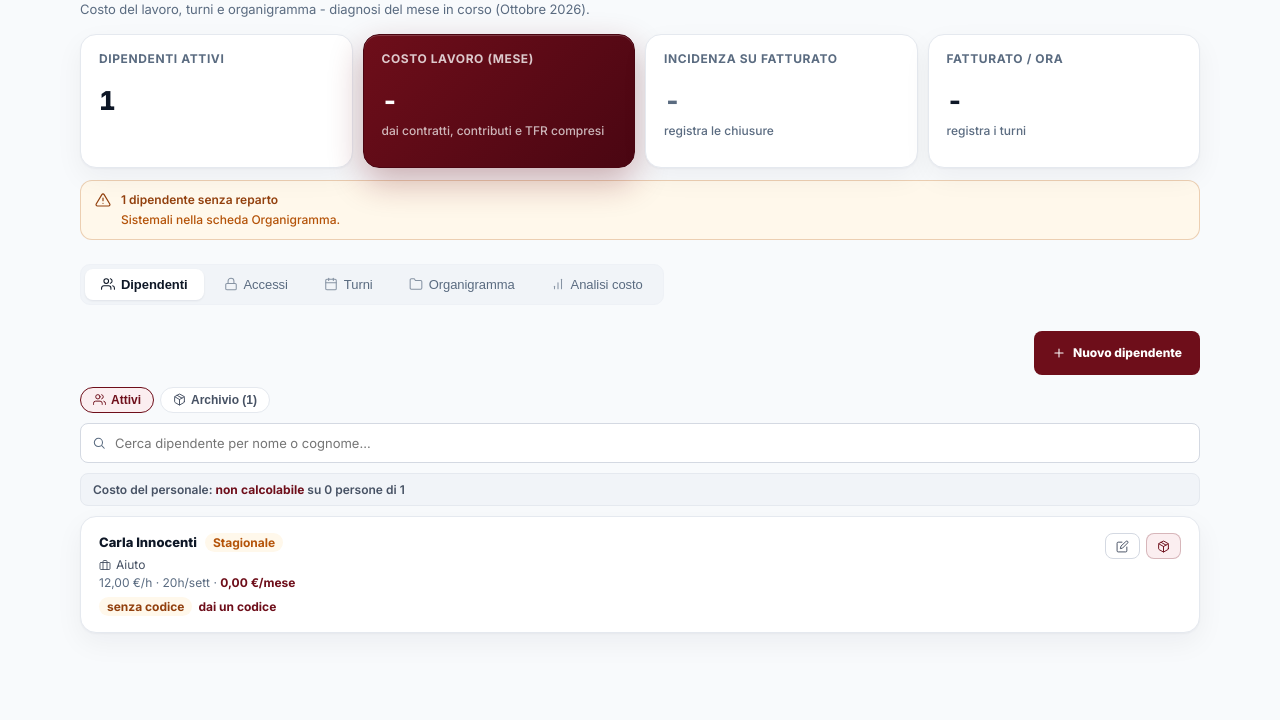
Test: Il doppio controllo › e non si è pignoli su maiuscole e spazi: è una conferma, non un esame
This screenshot has width=1280, height=720.
Click the button "Archivio (1)" at {"x": 215, "y": 400}, box [160, 386, 270, 412]
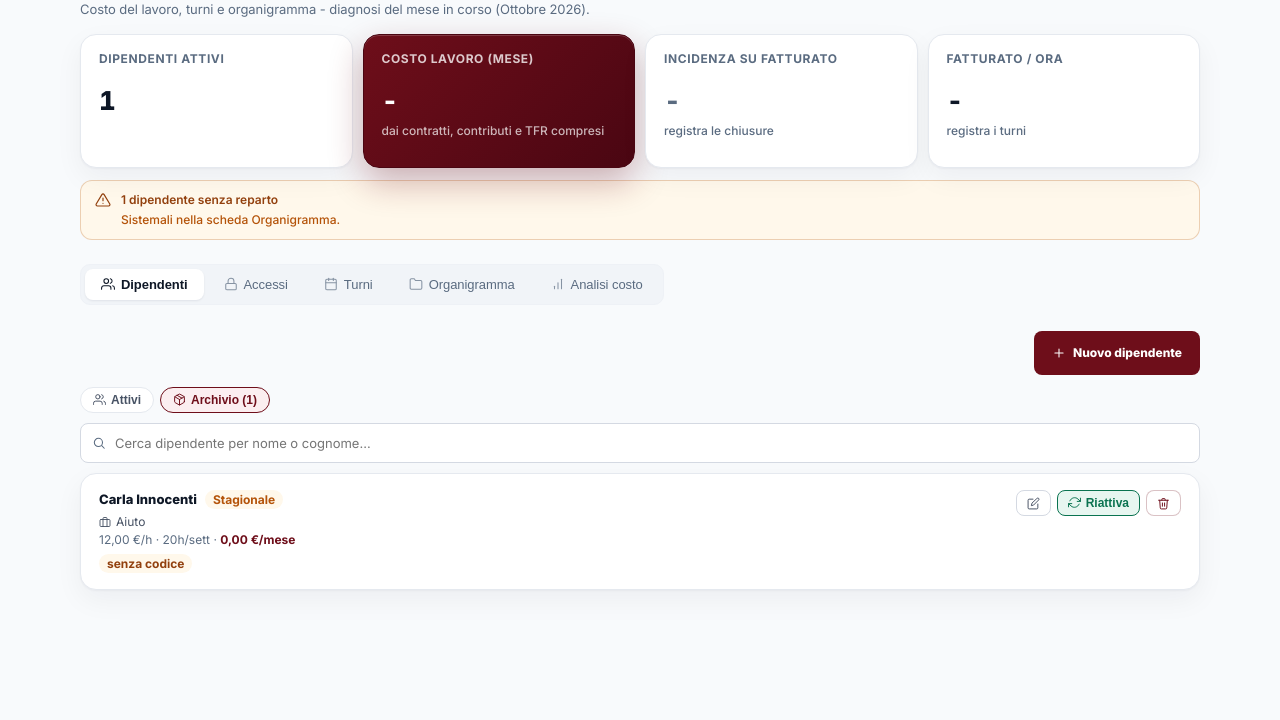
Expected: the text "Carla Innocenti" is shown, [99, 491, 197, 507]
Click the button named "Elimina definitivamente Carla Innocenti" at {"x": 1164, "y": 502}, box [1146, 490, 1181, 516]
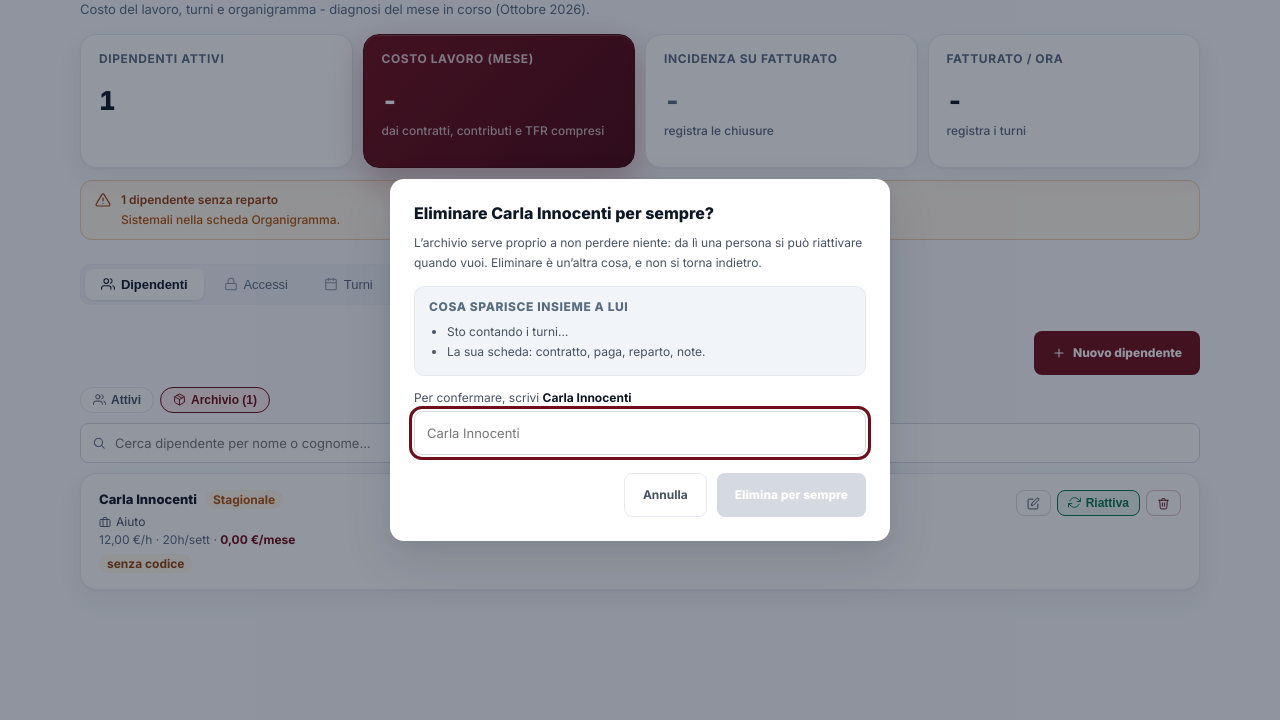
Result: the field labelled "Per confermare, scrivi Carla Innocenti" is shown
Type "  carla innocenti  " into the field labelled "Per confermare, scrivi Carla Innocenti" at {"x": 640, "y": 433}, box [414, 411, 866, 455]
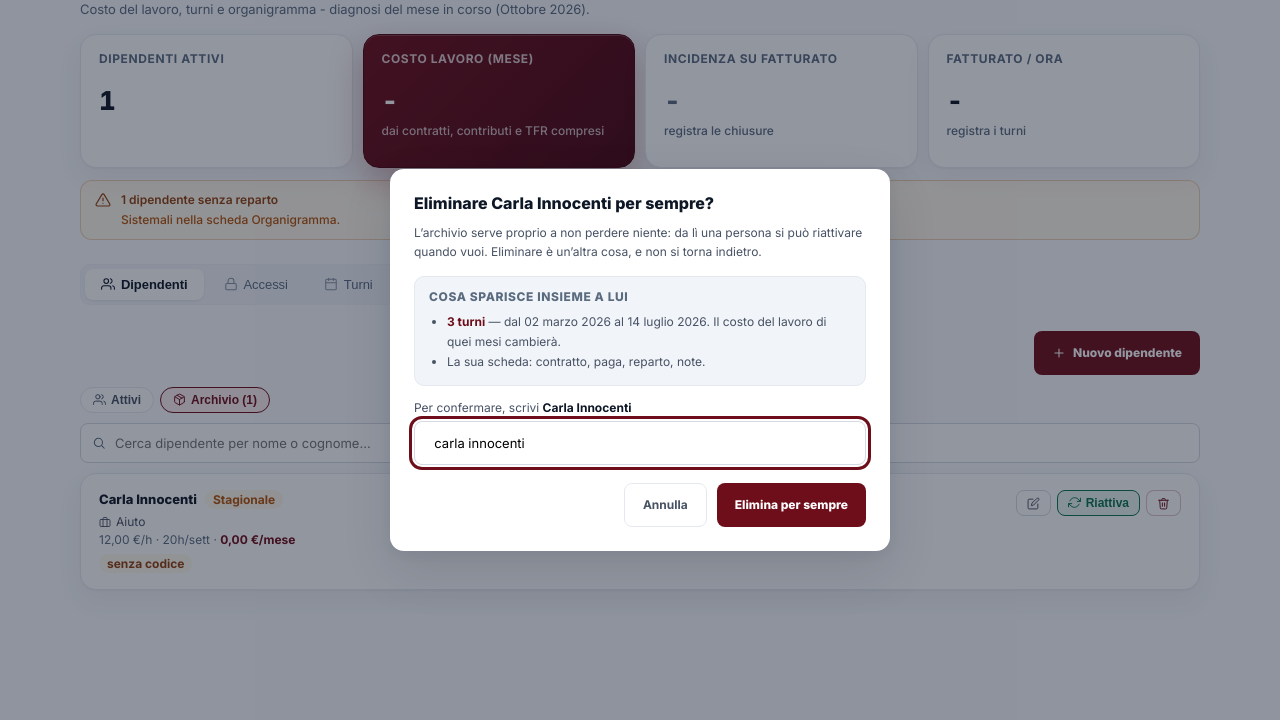
Result: the button "Elimina per sempre" is enabled at [717, 483, 866, 527]
